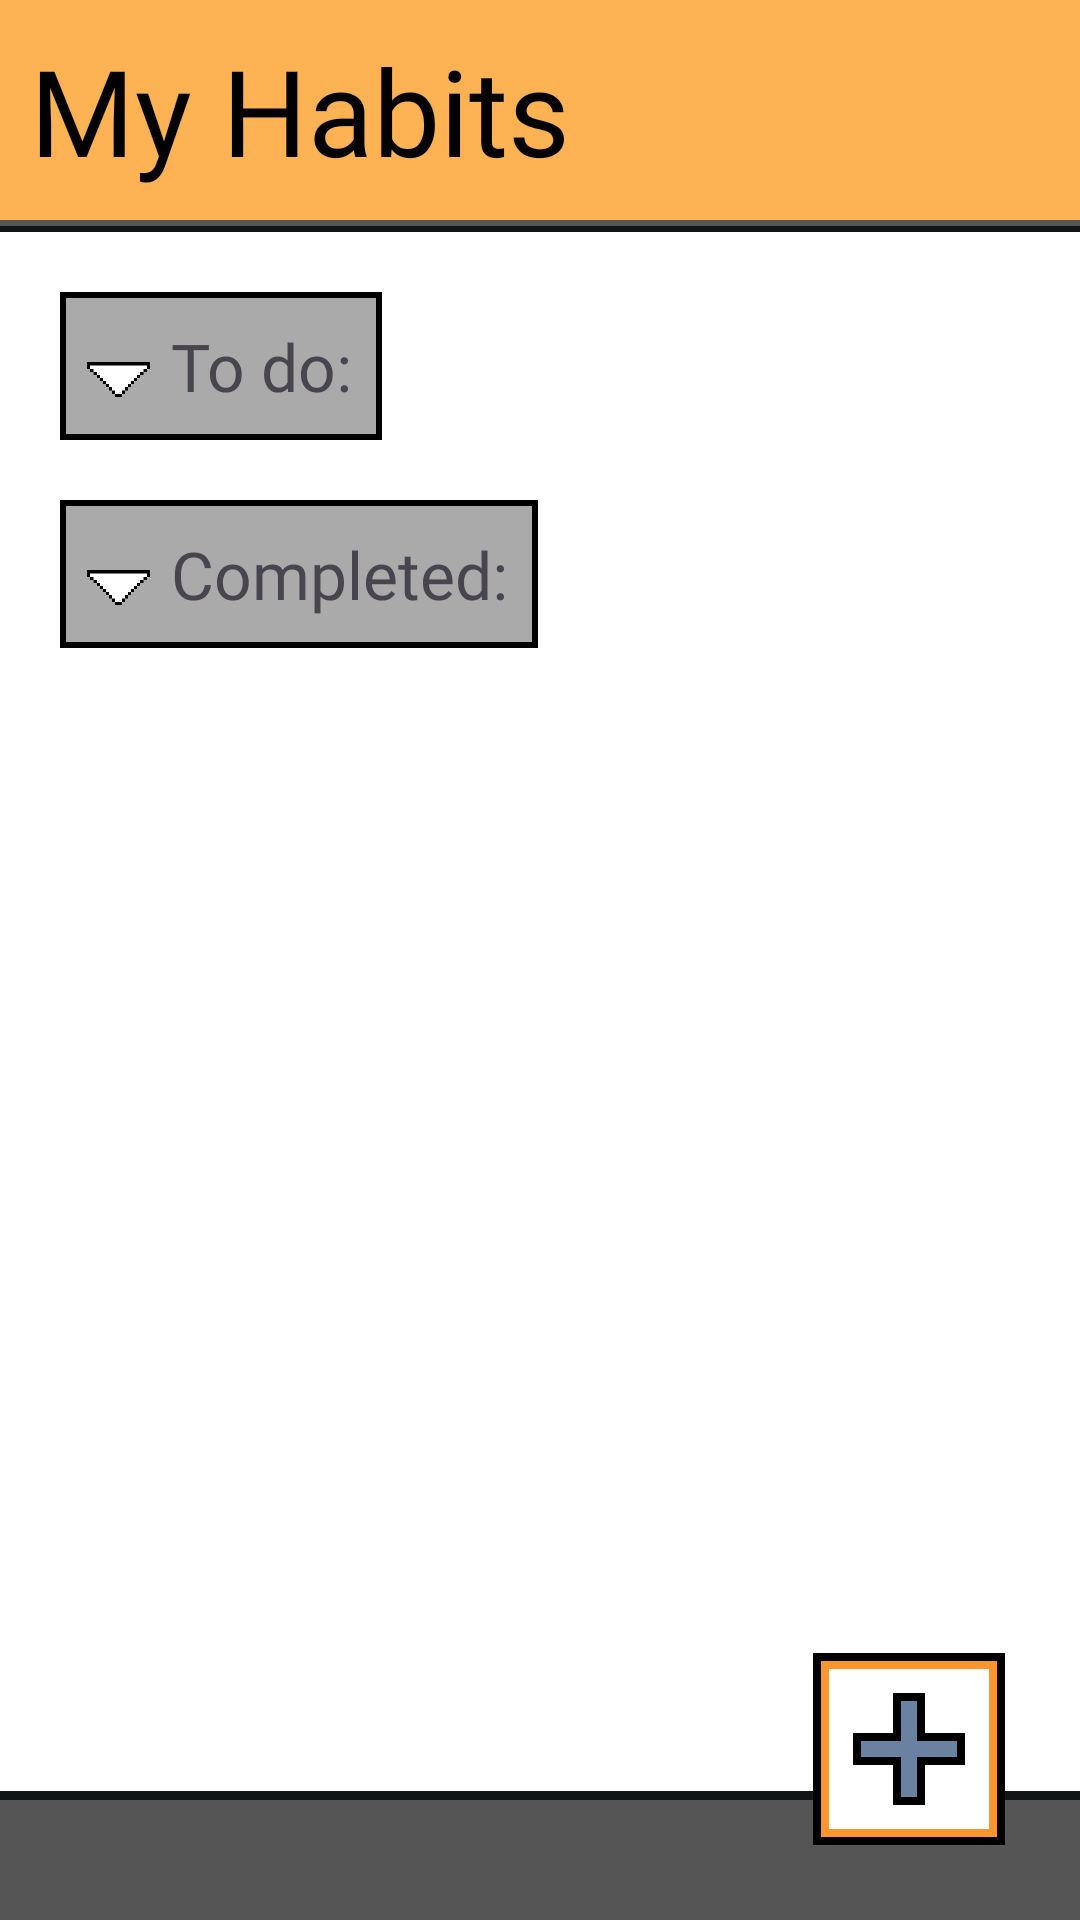

Named icons in this screenshot (1080×1920) and their bounding boxes, (x1, y1, x2, y2):
arrow closed: (87, 362, 150, 397), (87, 570, 150, 605)
plus: (813, 1653, 1005, 1845)
